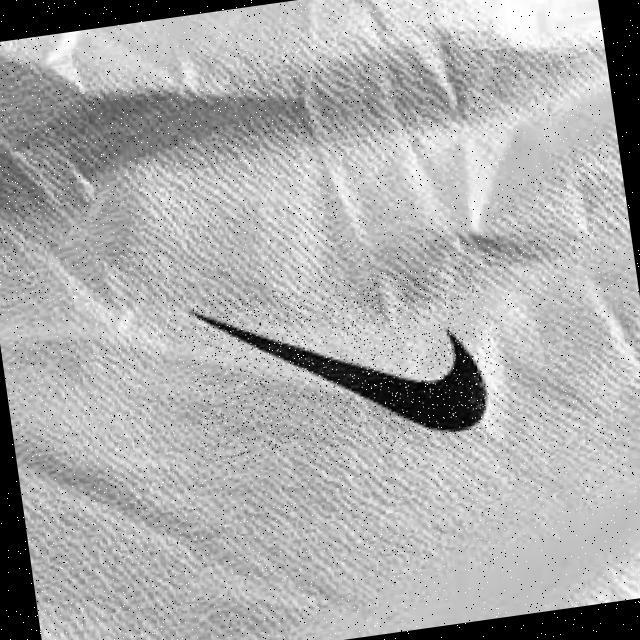Nike: (184, 262, 503, 470)
